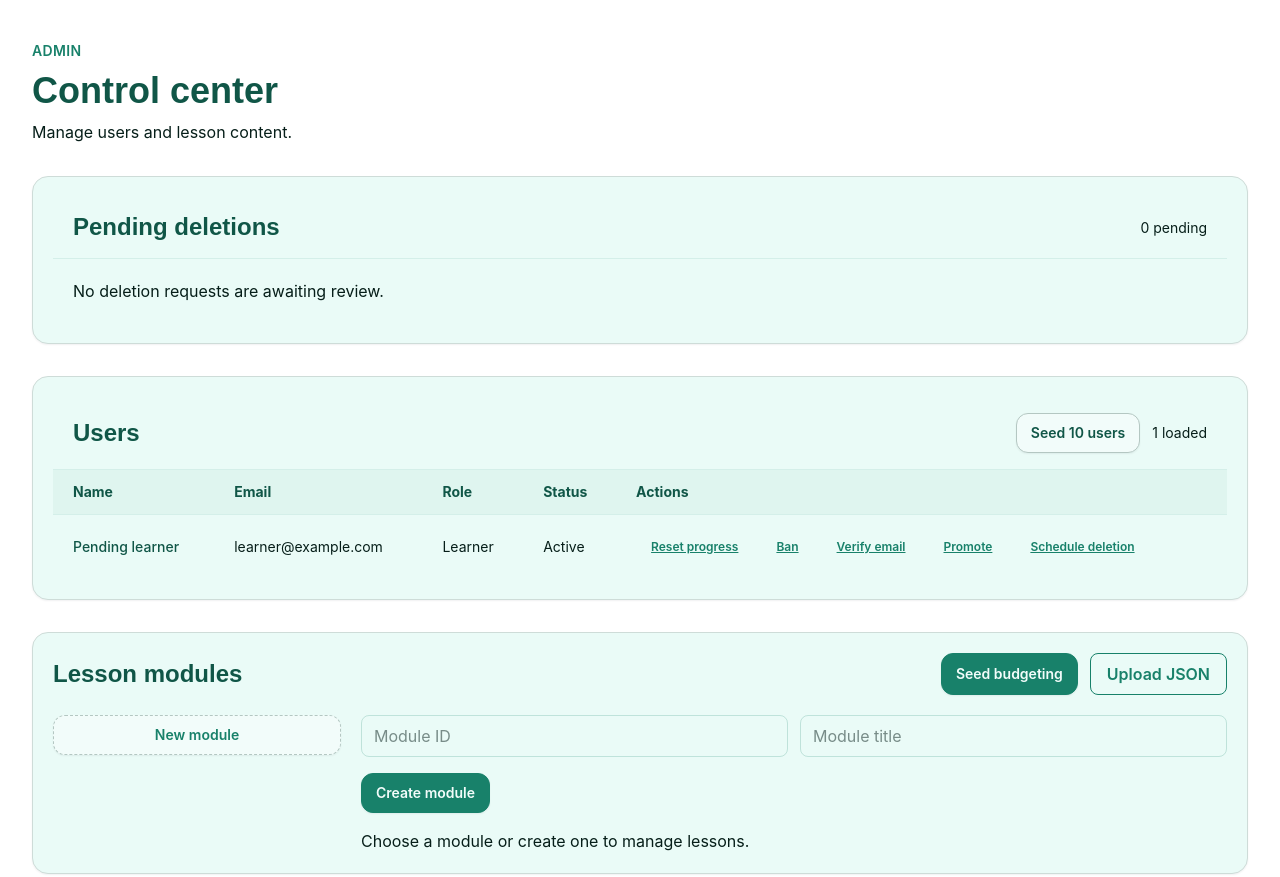
Test: AdminDashboardPage › updates scheduled and restored users locally without reloading dashboard data
Click the button "Schedule deletion". click: (1082, 547)
box: [1015,527,1150,567]
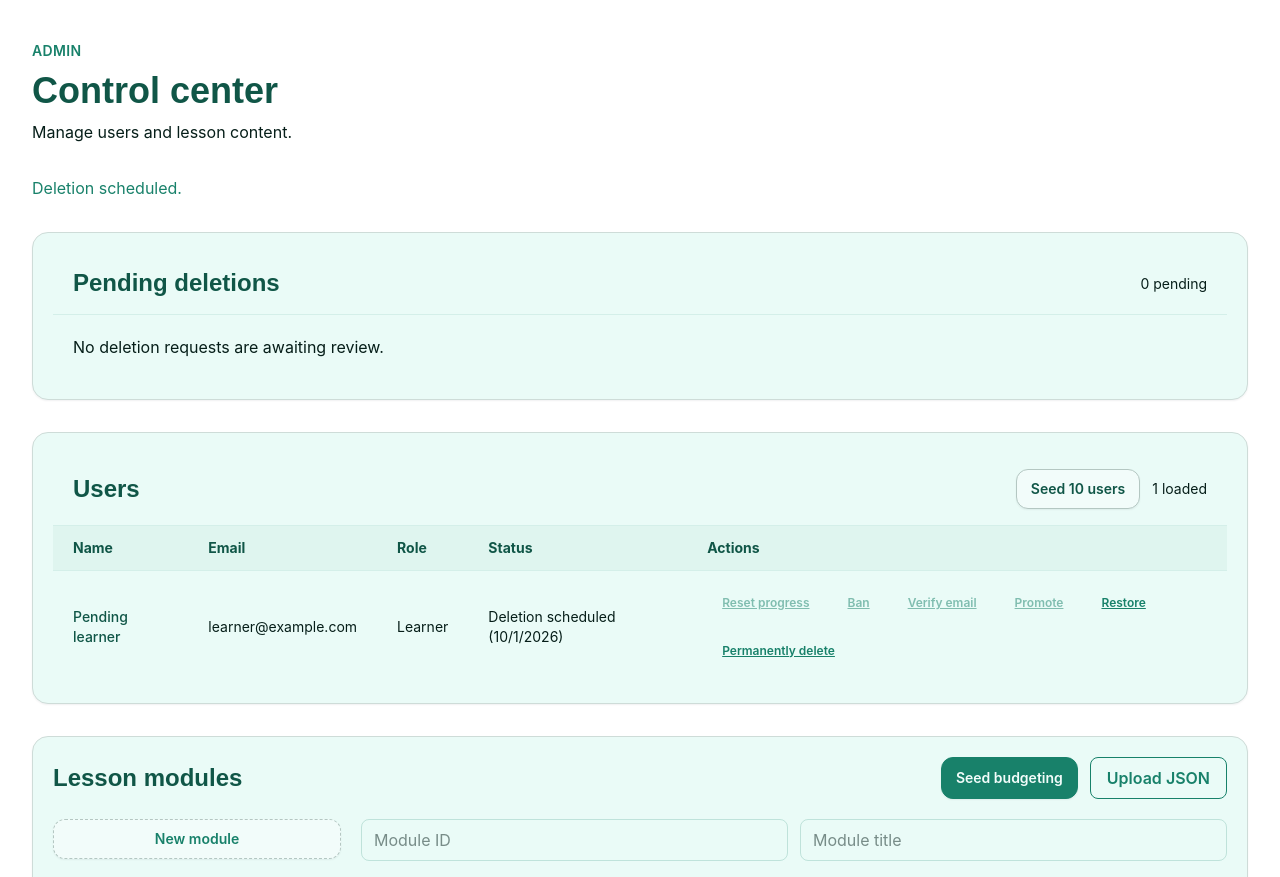
expect the button "Restore" is shown: met
expect the button "Ban" is disabled: met, box [832,583,885,623]
Click the button "Restore". click: (1124, 603)
box: [1086,583,1161,623]
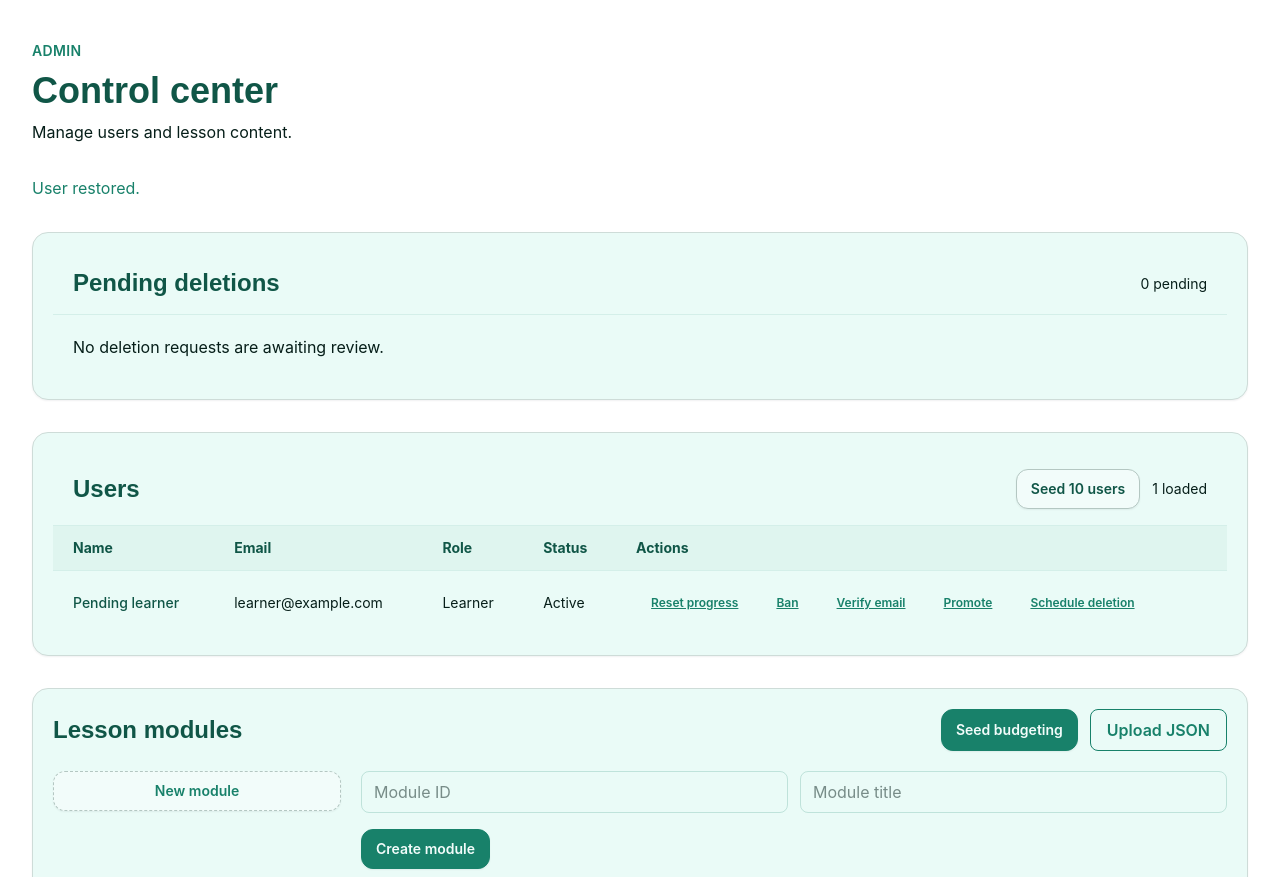
expect the button "Ban" is enabled: met, box [761,583,814,623]
